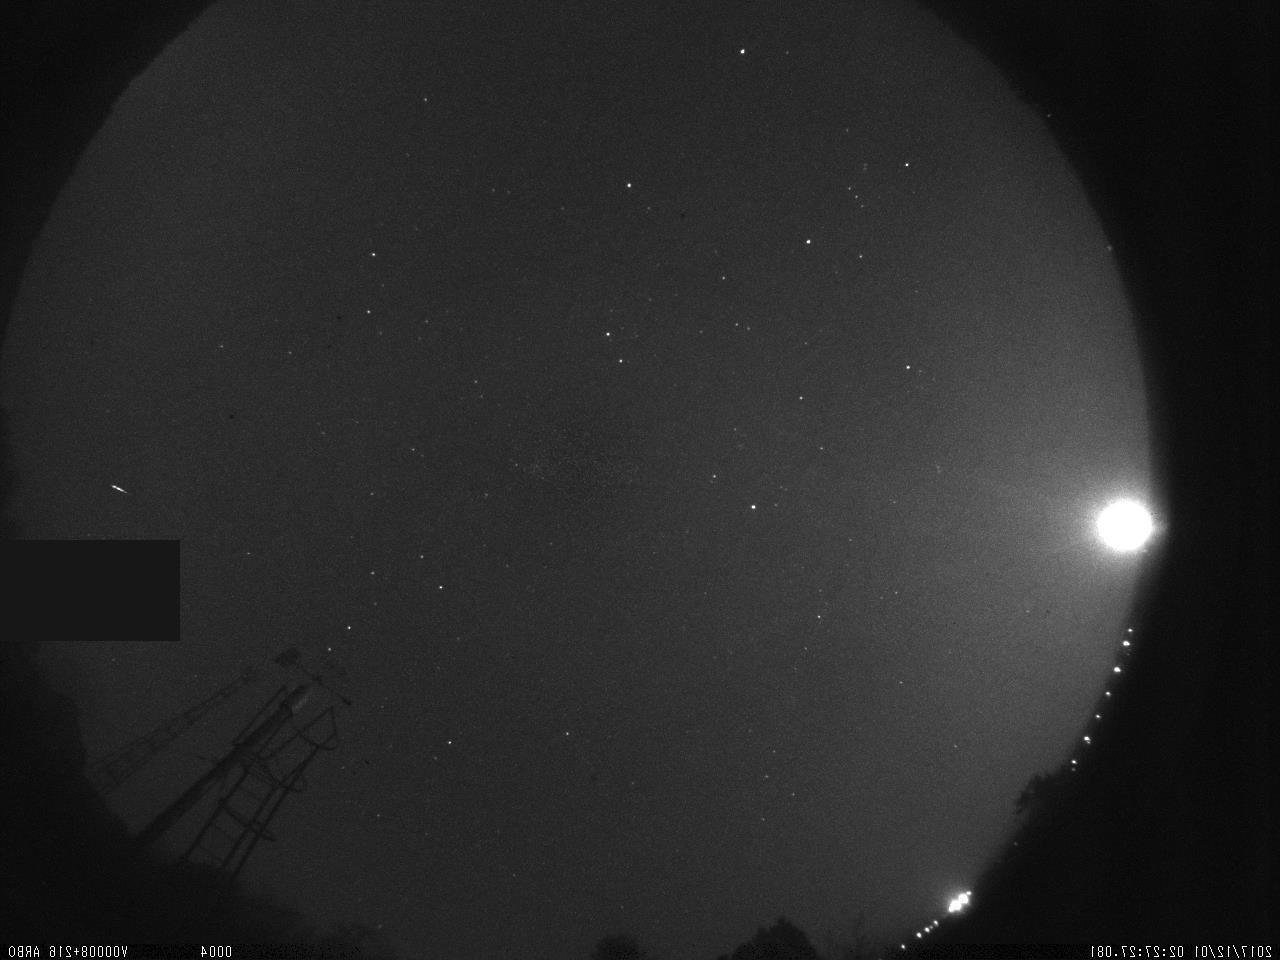meteor: (105, 475, 139, 507)
